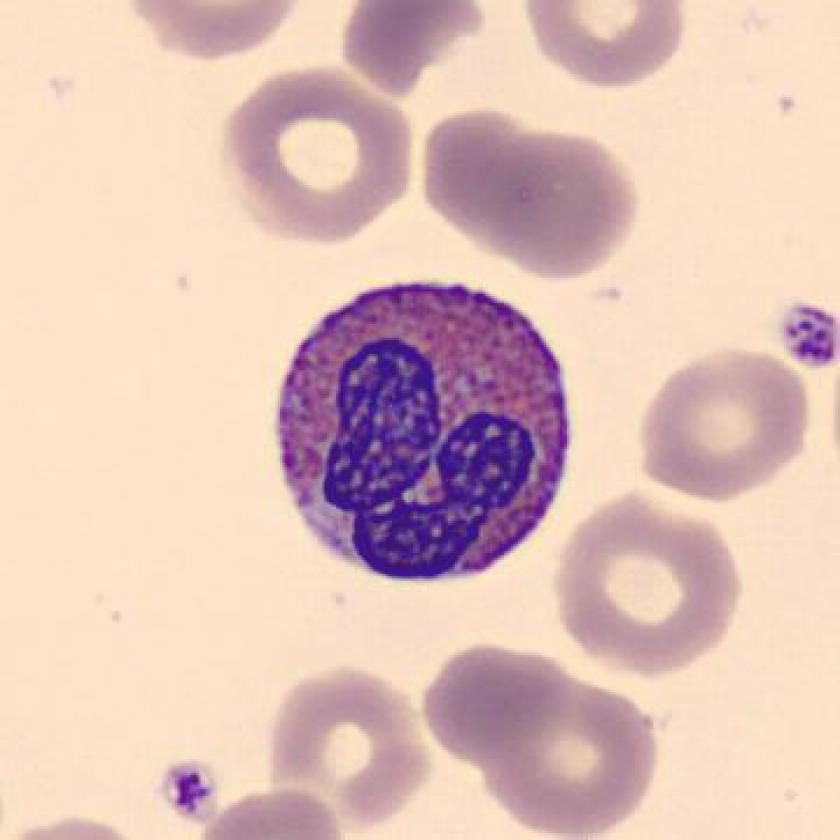eosinophil: (260, 272, 587, 593)
